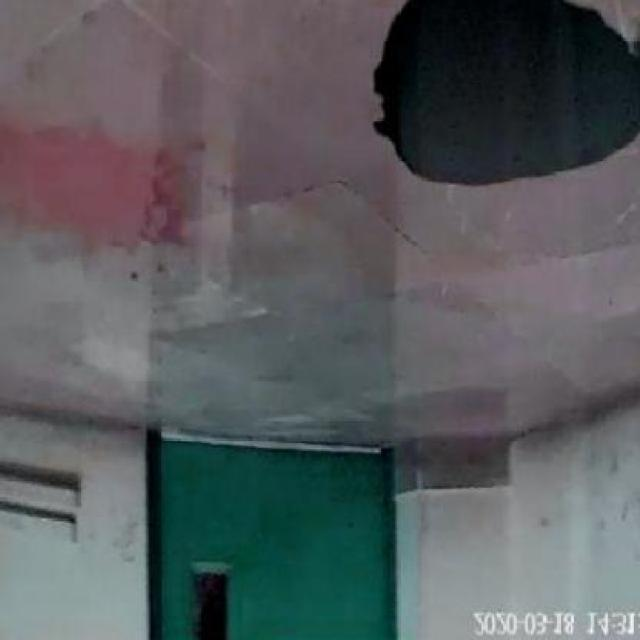spillage: (373, 0, 640, 185)
